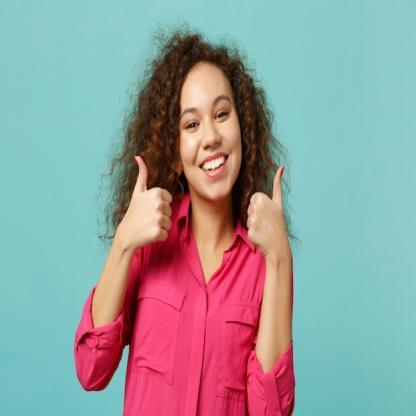thumb_up: (117, 150, 173, 252), (246, 164, 294, 261)
